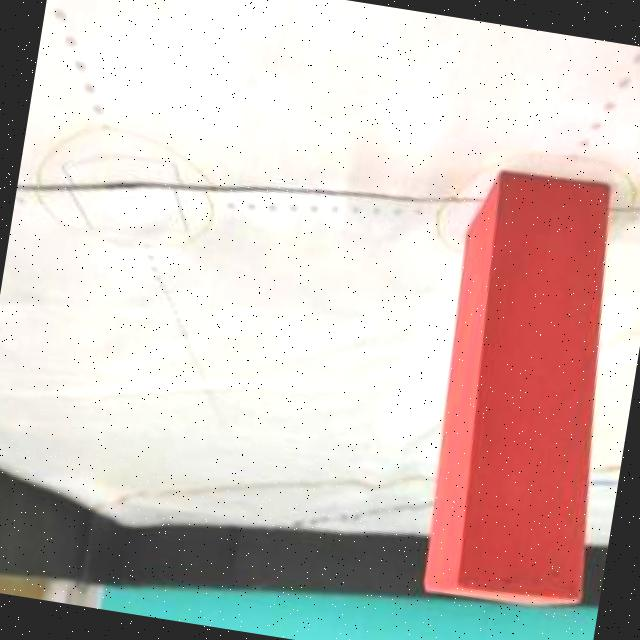redbox: (409, 161, 640, 620)
